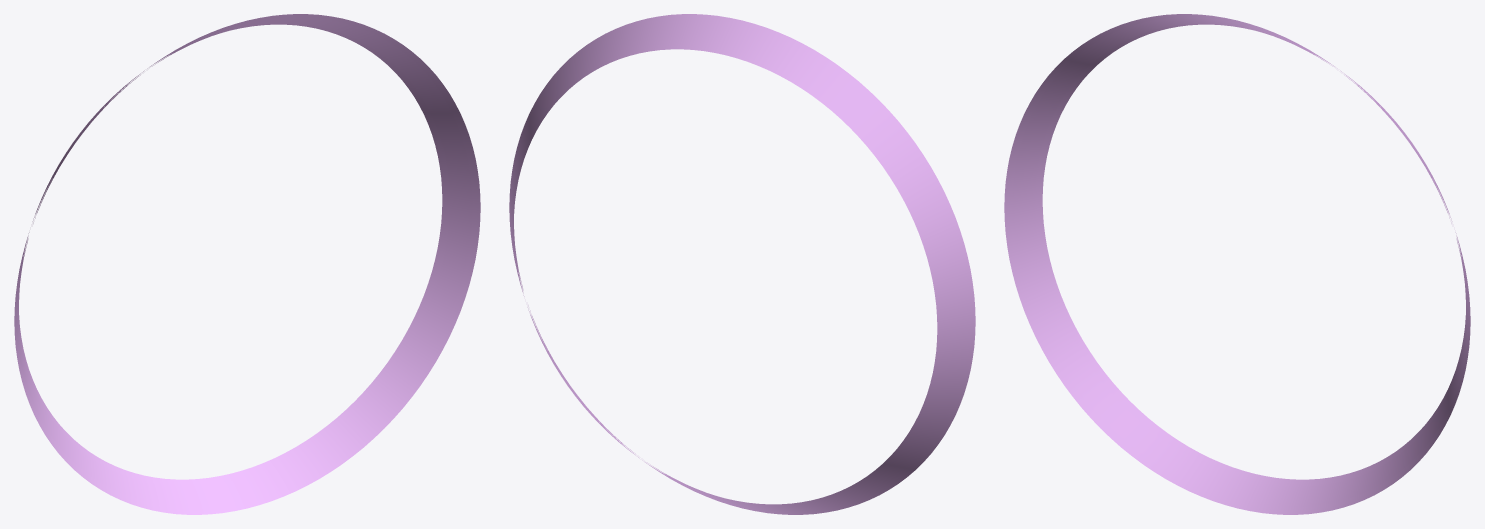
The model's file is Mesh_Note_60.fbx.
3 views of the same model, side by side, from view 1: azimuth 30°, elevation 25°; view 2: azimuth 150°, elevation 25°; view 3: azimuth 330°, elevation 25° (orthographic).
Parts seen in each view (by area): view 1: Mesh_Note_60; view 2: Mesh_Note_60; view 3: Mesh_Note_60.
Part boxes in pixels (x1,y1,x2,y2): Mesh_Note_60: (14, 14, 480, 514); Mesh_Note_60: (509, 14, 975, 514); Mesh_Note_60: (1004, 14, 1470, 514).
Bounding box in the file's own units: 3.56 × 3.56 × 0.2235.
